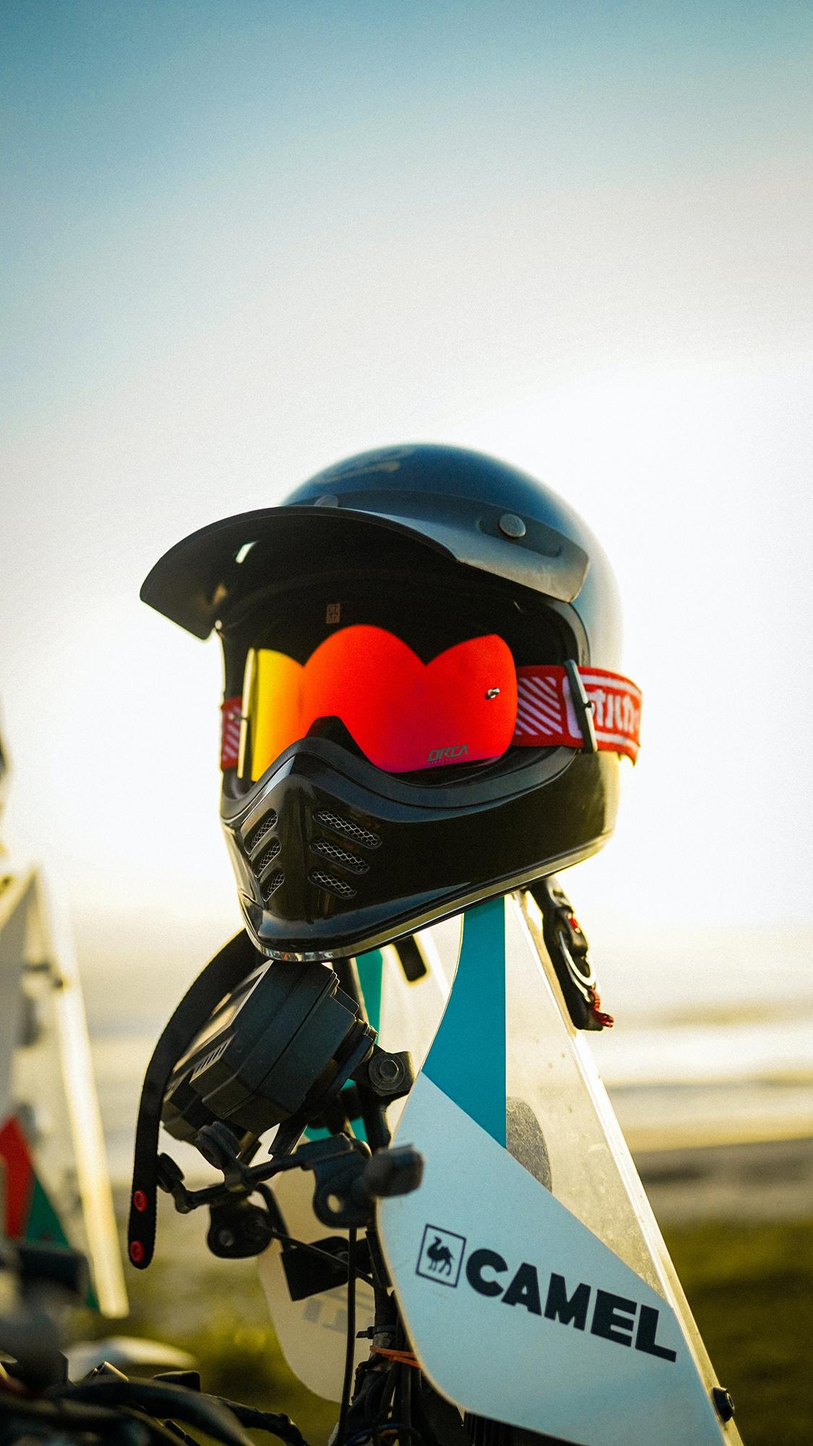helmet: (137, 439, 645, 968)
